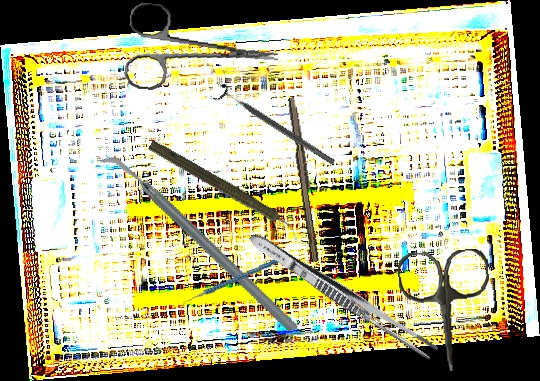Chopper: (96, 112, 300, 375), (175, 256, 288, 312)
Dressing Forceps: (244, 228, 441, 362)
Fixation Ring: (212, 81, 340, 172)
Handpiece: (144, 136, 306, 243)
Iris Scissors: (122, 1, 283, 103), (396, 248, 496, 374)
Scalpel Handle: (285, 96, 324, 263)
